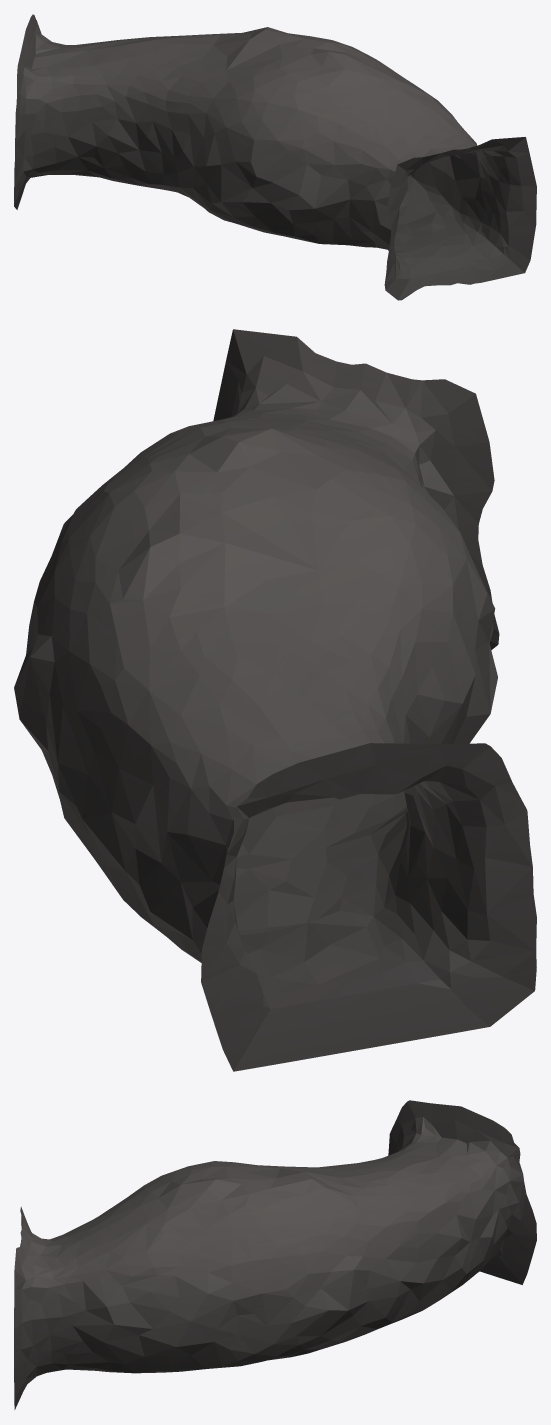
Rendered from ZLP_Cave_A_7.FBX.
3 renders of one model, top to bottom at view 1: azimuth 30°, elevation 25°; view 2: azimuth 150°, elevation 25°; view 3: azimuth 270°, elevation 25°, orthographic. The views are drawn at different scales.
Visible parts, largest first — view 1: ZLP_Cave_A_7; view 2: ZLP_Cave_A_7; view 3: ZLP_Cave_A_7.
Part boxes in pixels (x1,y1,x2,y2): ZLP_Cave_A_7: [14, 14, 536, 300]; ZLP_Cave_A_7: [14, 329, 536, 1071]; ZLP_Cave_A_7: [14, 1100, 536, 1409].
Bounding box in the file's own units: 3525 × 1714 × 4488.
